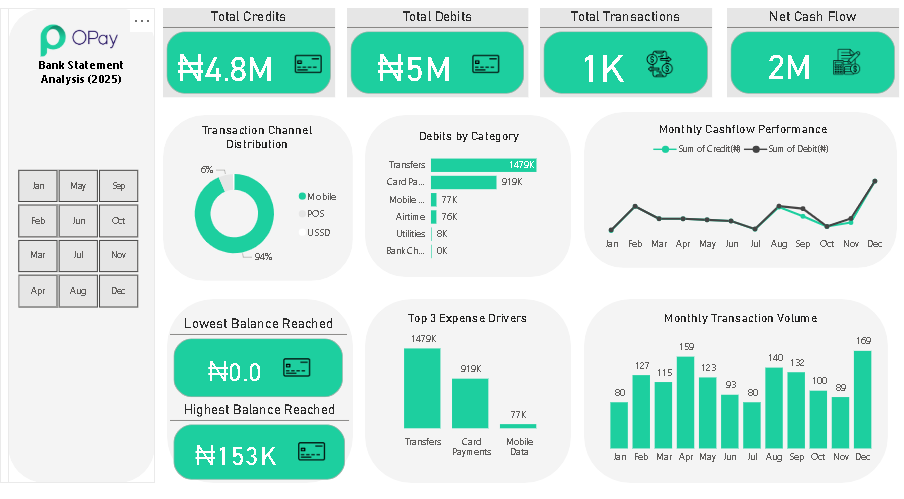

The page's visual inventory and layout, read from the dashboard file:
{"tool":"powerbi","page":{"name":"Page 1","canvas":[1280,720],"ordinal":0},"visuals":[{"type":"shape","box":[11.8,24,207.5,670.6],"z":0,"group":"g3"},{"type":"cardVisual","title":"Total Credits","fields":{"Data":["Opay.Total Credits"]},"box":[230.1,24,242.8,125.6],"z":0},{"type":"shape","box":[824.5,170.8,441.9,220.2],"z":0,"group":"g5"},{"type":"group","id":"g1","title":"Group 1","box":[515.3,175.1,290.8,228.7],"z":0,"group":"g2"},{"type":"cardVisual","title":"Total Debits","fields":{"Data":["Opay.Total Debits"]},"box":[489.9,24,255.5,125.6],"z":1000},{"type":"image","box":[49.9,42.4,124.2,55.1],"z":1000,"group":"g3"},{"type":"lineChart","title":"Monthly Cashflow Performance","fields":{"Category":["Opay.Month Name"],"Y":["Sum(Opay.Credit(₦))"],"Y2":["Sum(Opay.Debit(₦))"]},"box":[844.8,185.1,409.5,189],"z":1000,"group":"g5"},{"type":"clusteredBarChart","title":"Debits by Category","fields":{"Category":["Opay.Category"],"Y":["Opay.True Expenses"]},"box":[529,194.8,265.4,197.6],"z":1000,"group":"g2"},{"type":"cardVisual","title":"Total  Transactions","fields":{"Data":["Opay.Transaction"]},"box":[762.4,24,242.8,125.6],"z":2000},{"type":"cardVisual","title":"Net Cash Flow","fields":{"Data":["Opay.Net Cash Flow"]},"box":[1026.4,24,242.8,125.6],"z":3000},{"type":"shape","box":[515.3,434.8,290.8,259.8],"z":4000},{"type":"group","id":"g2","title":"Group 2","box":[515.3,175.1,290.8,228.7],"z":5000},{"type":"shape","box":[230.1,175.1,268.2,234.4],"z":5002,"group":"g4"},{"type":"shape","box":[515.3,175.1,290.8,228.7],"z":5002,"group":"g1"},{"type":"donutChart","title":"Transaction Channel Distribution","fields":{"Category":["Opay.Channel"],"Y":["Opay.Transaction Count"]},"box":[236.4,186,254.1,217.8],"z":5007,"group":"g4"},{"type":"slicer","fields":{"Values":["Opay.Month Name"]},"box":[0.7,245.6,218.8,207.5],"z":5008,"group":"g3"},{"type":"group","id":"g3","title":"Group 3","box":[0.7,24,218.8,670.6],"z":6000},{"type":"group","id":"g4","title":"Group 4","box":[230.1,175.1,268.2,234.4],"z":7000},{"type":"shape","box":[824.5,434.8,429.2,259.8],"z":8000},{"type":"group","id":"g5","title":"Group 5","box":[824.5,170.8,441.9,220.2],"z":9000},{"type":"shape","box":[235.8,434.8,262.6,259.8],"z":10000,"group":"g6"},{"type":"textbox","box":[21.2,87.5,187.8,62.1],"z":11000},{"type":"clusteredColumnChart","title":"Monthly Transaction Volume","fields":{"Category":["Opay.Month Name"],"Y":["Opay.Transaction Count"]},"box":[844.2,451.8,403.8,223.1],"z":12000},{"type":"clusteredColumnChart","title":"Top 3 Expense Drivers","fields":{"Category":["Opay.Category"],"Y":["Opay.True Expenses"]},"box":[529.4,451.8,262.6,214.6],"z":13000},{"type":"cardVisual","title":"Lowest Balance Reached","fields":{"Data":["Opay.Lowest Balance"]},"box":[240.4,457.6,249.9,120],"z":14000,"group":"g6"},{"type":"cardVisual","title":"Highest Balance Reached","fields":{"Data":["Opay.Highest Balance"]},"box":[240.4,579,252.7,115.8],"z":15000,"group":"g6"},{"type":"group","id":"g6","title":"Group 6","box":[235.8,434.8,262.6,260],"z":15001}]}

Visuals, with their boxes in screenshot pixels (x1, y1, x2, y2), scaled from the page's 1280x720 canvas onto the 904x499 screenshot:
shape: 8:17:155:481
"Total Credits" cardVisual: 163:17:334:104
shape: 582:118:894:271
"Group 1" group: 364:121:569:280
"Total Debits" cardVisual: 346:17:526:104
image: 35:29:123:68
"Monthly Cashflow Performance" lineChart: 597:128:886:259
"Debits by Category" clusteredBarChart: 374:135:561:272
"Total  Transactions" cardVisual: 538:17:710:104
"Net Cash Flow" cardVisual: 725:17:896:104
shape: 364:301:569:481
"Group 2" group: 364:121:569:280
shape: 163:121:352:284
shape: 364:121:569:280
"Transaction Channel Distribution" donutChart: 167:129:346:280
slicer - Opay.Month Name: 0:170:155:314
"Group 3" group: 0:17:155:481
"Group 4" group: 163:121:352:284
shape: 582:301:885:481
"Group 5" group: 582:118:894:271
shape: 167:301:352:481
textbox: 15:61:148:104
"Monthly Transaction Volume" clusteredColumnChart: 596:313:881:468
"Top 3 Expense Drivers" clusteredColumnChart: 374:313:559:462
"Lowest Balance Reached" cardVisual: 170:317:346:400
"Highest Balance Reached" cardVisual: 170:401:348:482
"Group 6" group: 167:301:352:482
